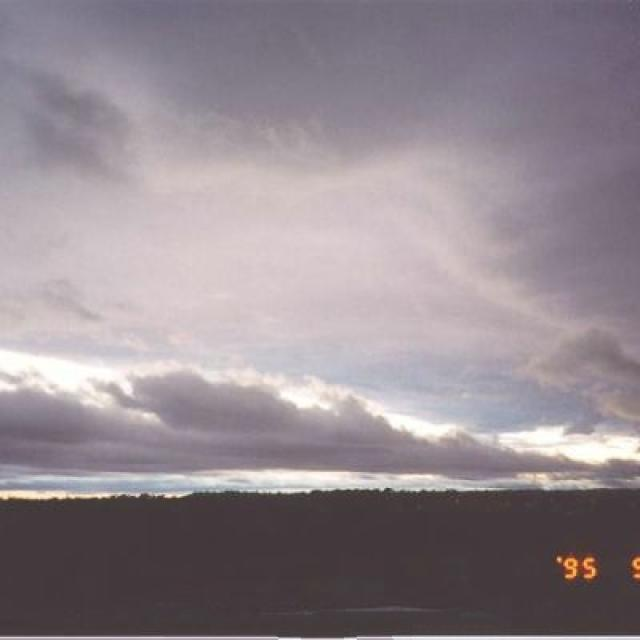St: (2, 83, 640, 483)
